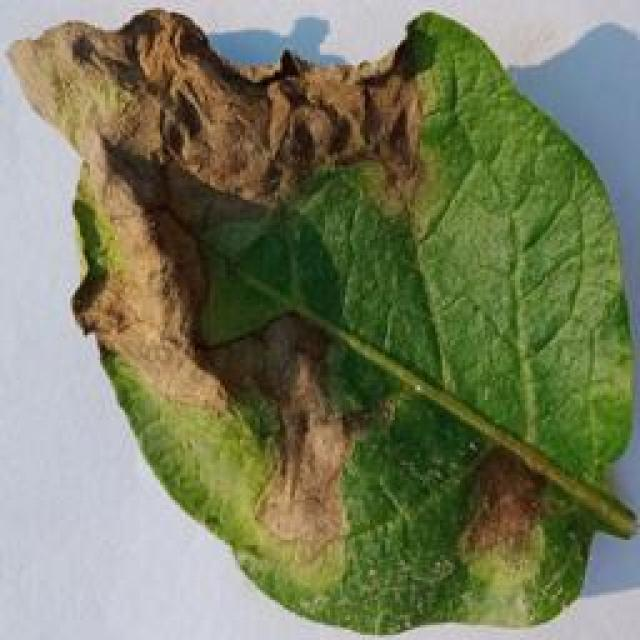Potato_Late_Blight: (6, 12, 628, 639)
